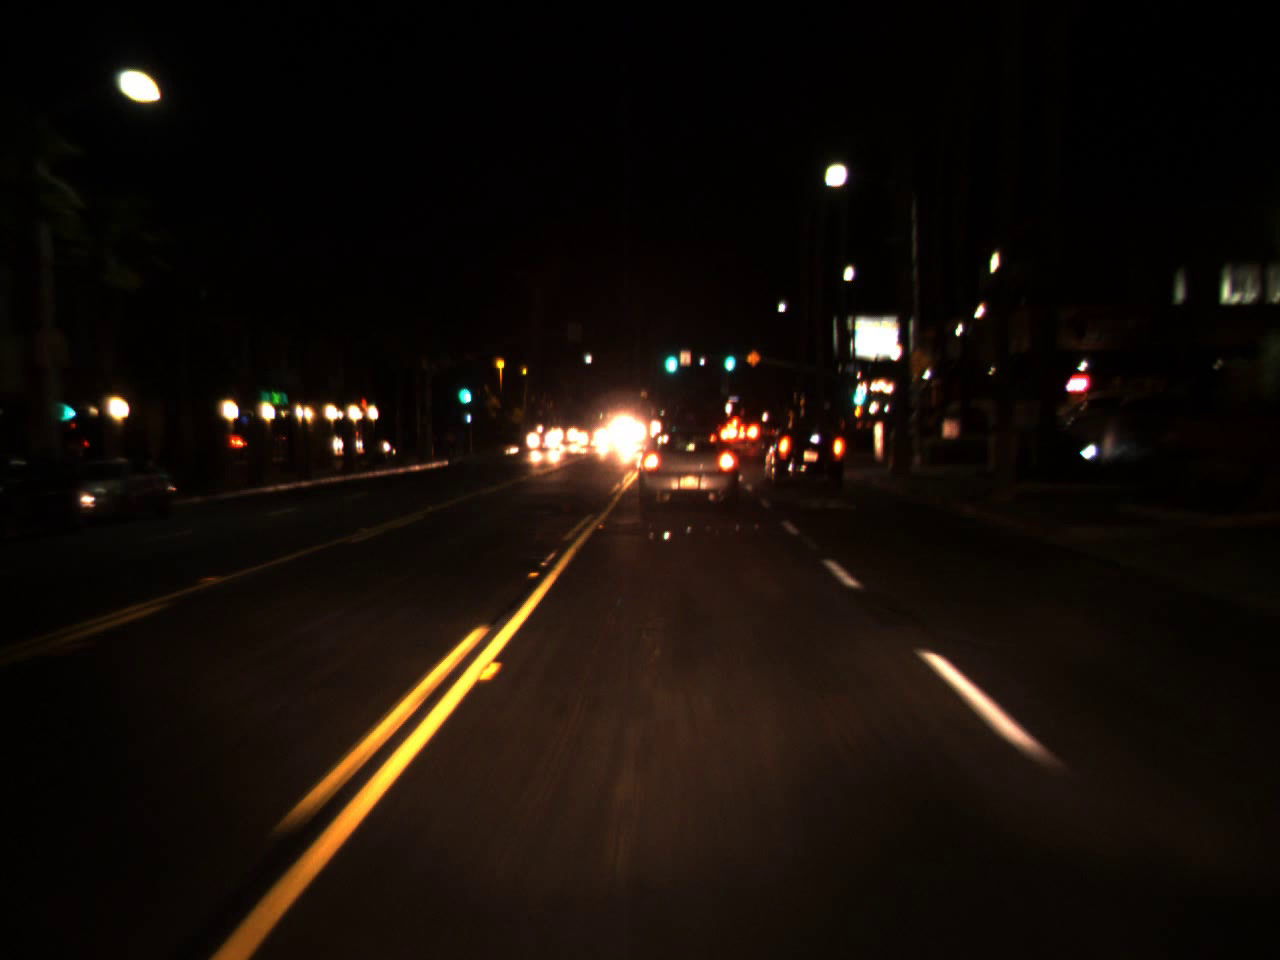go: (660, 334, 679, 379), (455, 368, 473, 410), (847, 375, 868, 408), (721, 342, 737, 372)
